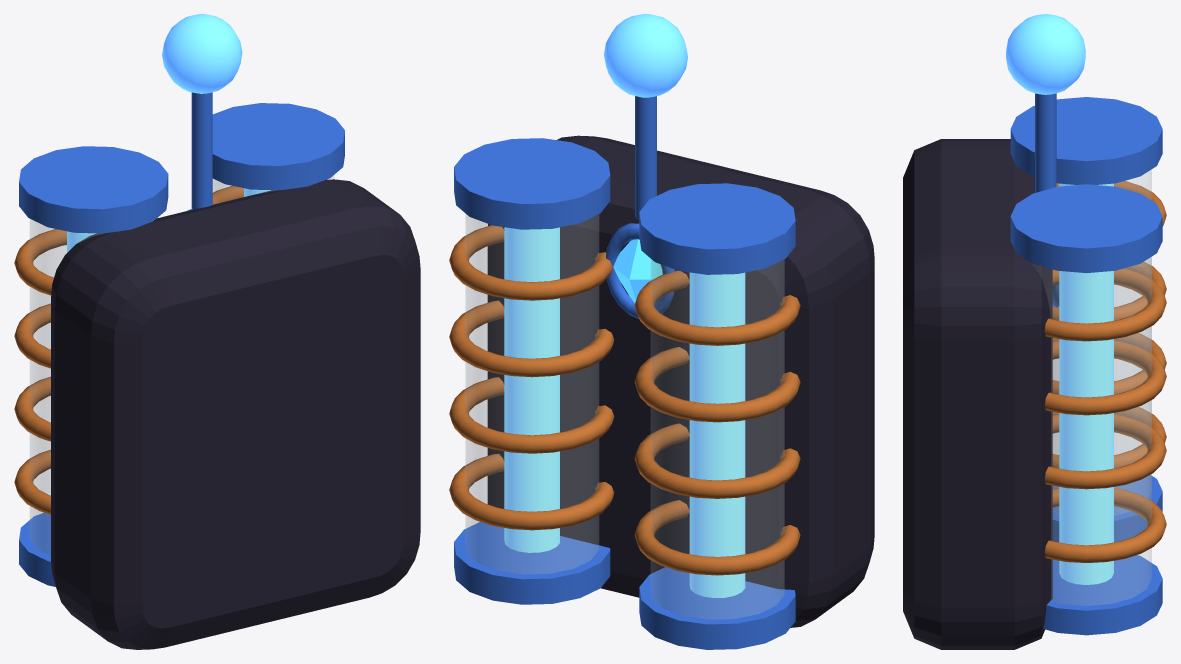
File: back_eqgw1.glb
The picture shows the model from 3 angles, left to right: view 1: azimuth 30°, elevation 25°; view 2: azimuth 150°, elevation 25°; view 3: azimuth 270°, elevation 25°; orthographic projection. The views are drawn at different scales.
Bounding box in the file's own units: 1.4 × 2.33 × 0.97.
